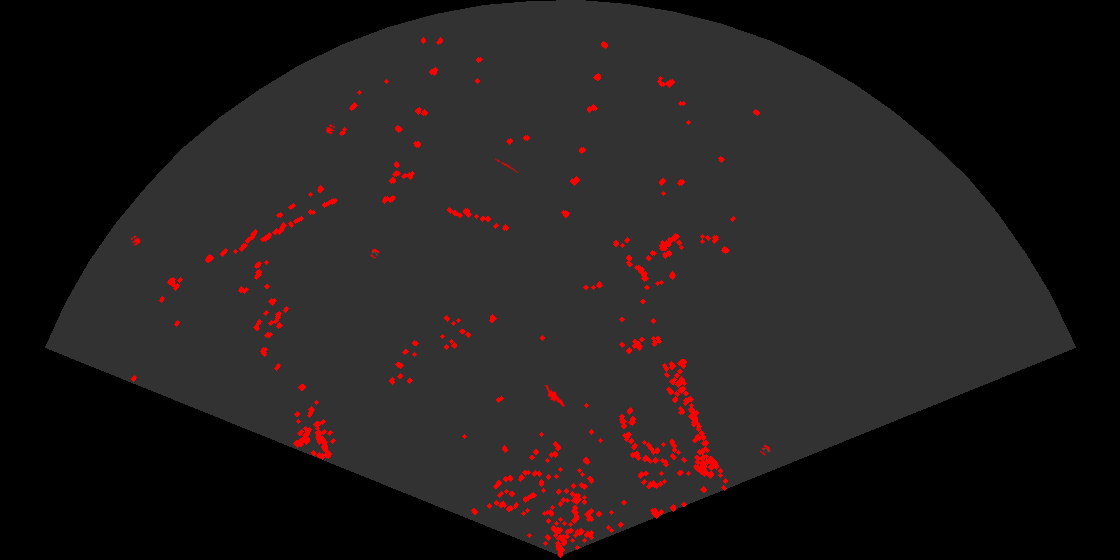ball: (758, 443, 772, 457), (129, 234, 142, 247), (369, 247, 381, 260), (324, 123, 336, 136)
chain: (495, 157, 519, 173)
frogman: (544, 385, 566, 411)
